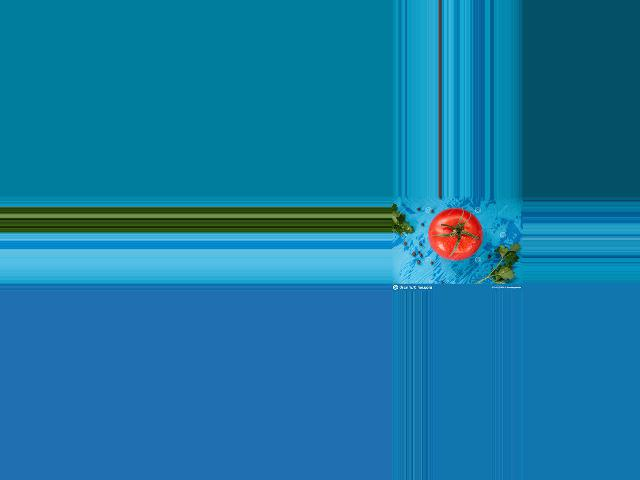tomato: (428, 208, 483, 260)
